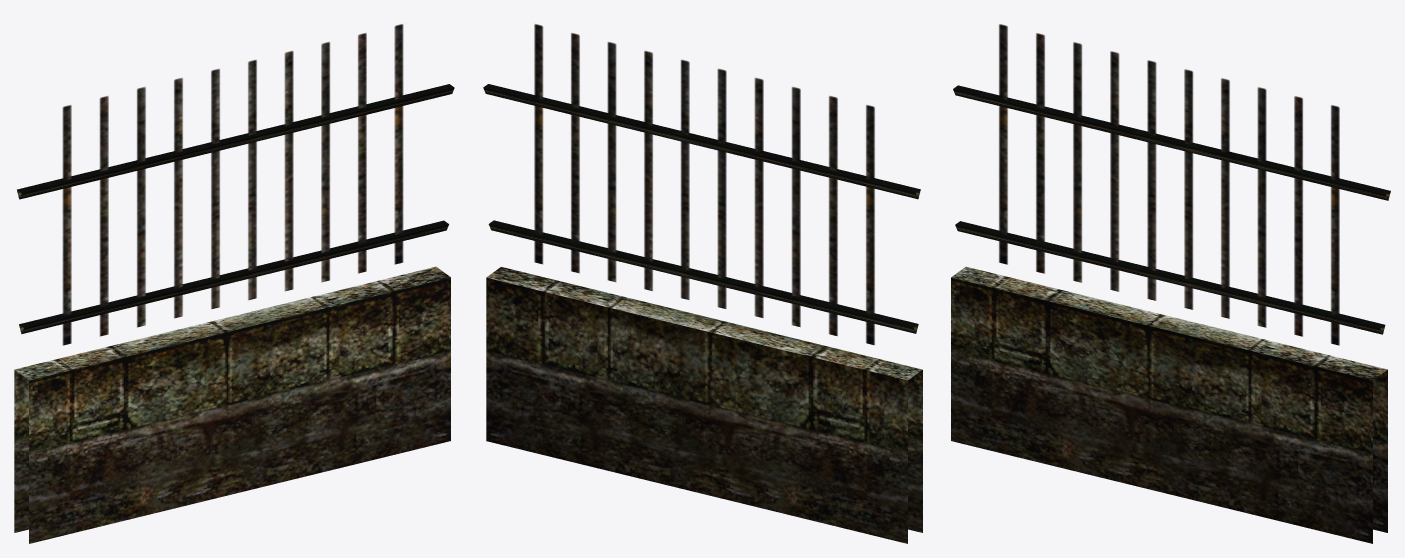
Rendered from cem_fence2.glb.
3 views of the same model, side by side, from view 1: azimuth 30°, elevation 25°; view 2: azimuth 150°, elevation 25°; view 3: azimuth 330°, elevation 25° (orthographic).
Parts seen in each view (by area): view 1: cem_fence2; view 2: cem_fence2; view 3: cem_fence2.
Part boxes in pixels (x1,y1,x2,y2): cem_fence2: (14, 24, 454, 543); cem_fence2: (483, 24, 922, 543); cem_fence2: (951, 24, 1390, 543).
Size of the model in its own units: 3.92 by 3.69 by 0.2339.
3 materials, 3 textured.
